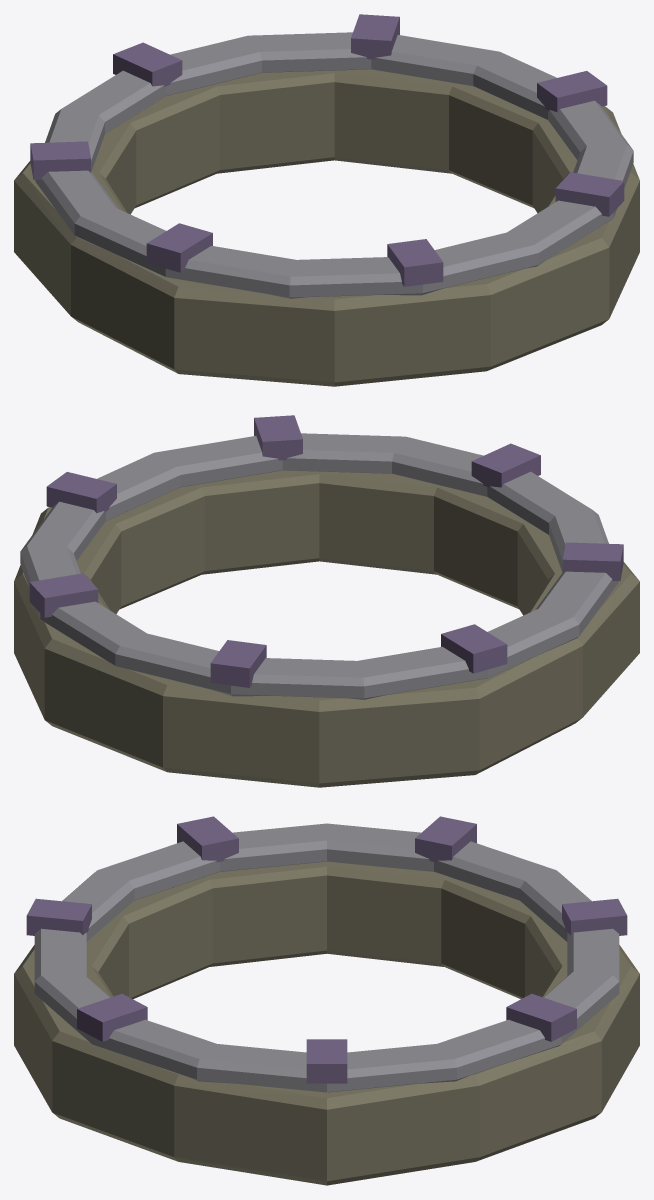
Rendered from STAR_TELEPORT_PAD.shadow.glb.
3 renders of one model, top to bottom at view 1: azimuth 30°, elevation 25°; view 2: azimuth 150°, elevation 25°; view 3: azimuth 270°, elevation 25°, orthographic.
Parts seen in each view (by area): view 1: Body_Mesh; view 2: Body_Mesh; view 3: Body_Mesh.
Part boxes in pixels (x1,y1,x2,y2): Body_Mesh: (14,14,639,386); Body_Mesh: (14,415,639,787); Body_Mesh: (14,816,639,1185).
Bounding box in the file's own units: 1.3 × 0.2695 × 1.3.
